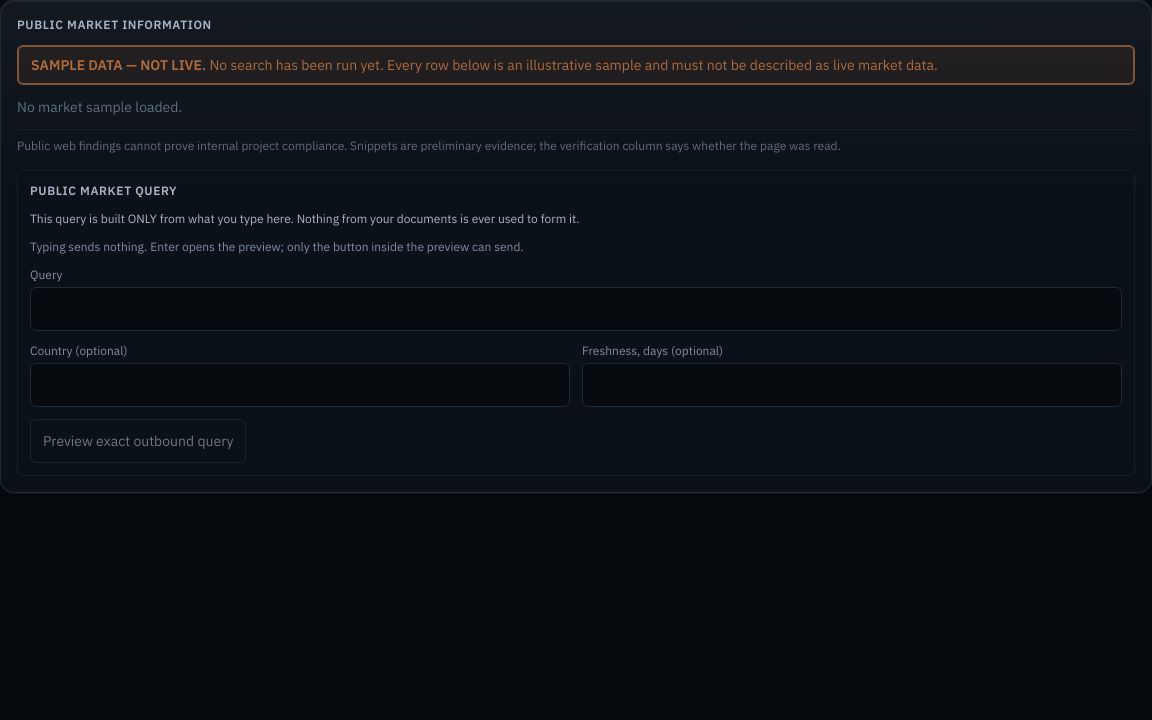
it: market dialog: focus returns to the trigger on every close path › restores focus after CONFIRM
Type "pump pressure standards" into the field labelled "Query".
click(576, 309); type("pump pressure standards")  # box 30,287 -> 1122,331
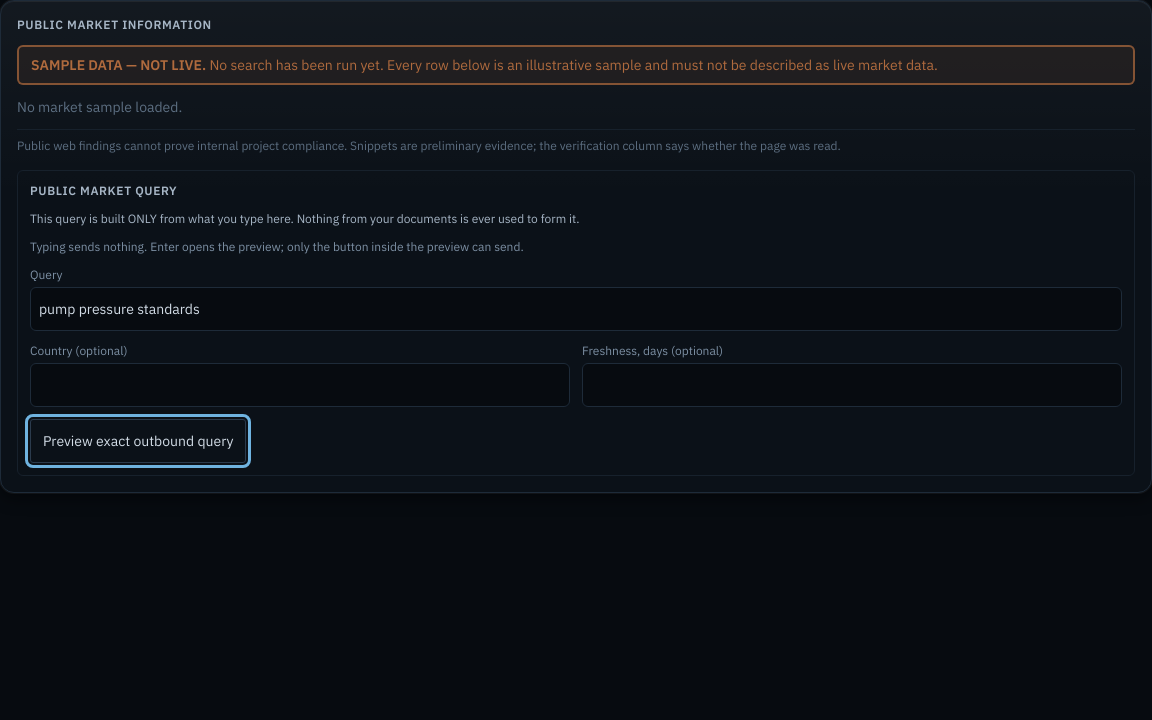
Click the button "Preview exact outbound query".
click(138, 441)  # box 30,419 -> 246,463
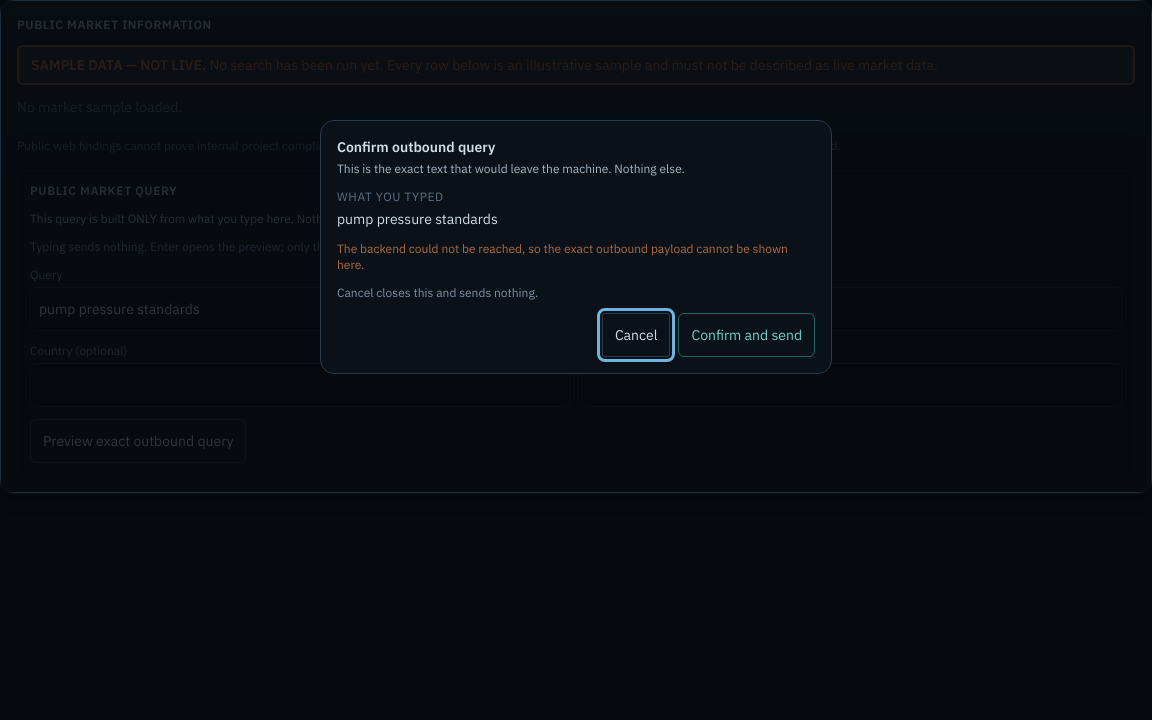
Click the button "Confirm and send".
click(747, 334)  # box 678,312 -> 815,356
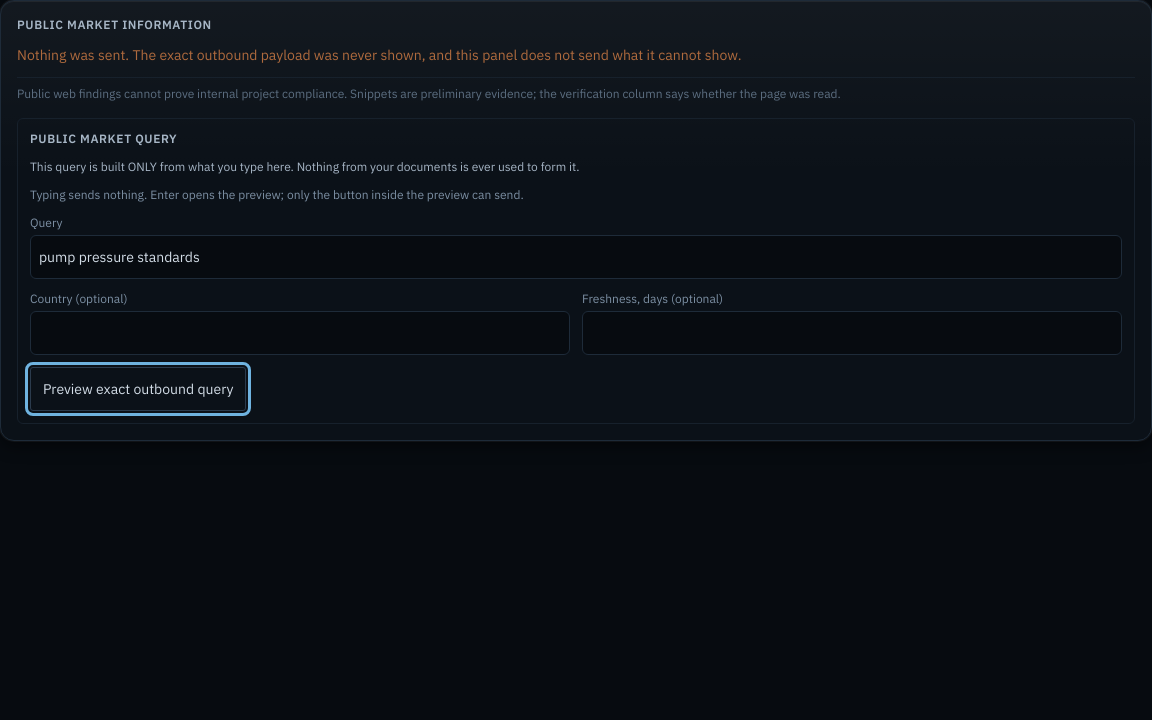
expect the dialog is gone: met
